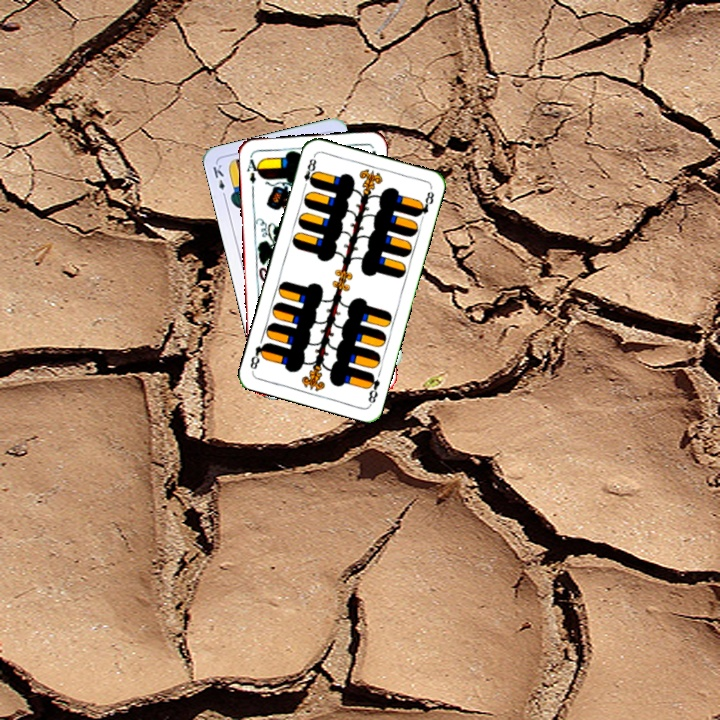E8: (299, 152, 319, 192), (363, 369, 383, 407)
EA: (243, 152, 263, 186)
EK: (209, 160, 229, 201)
